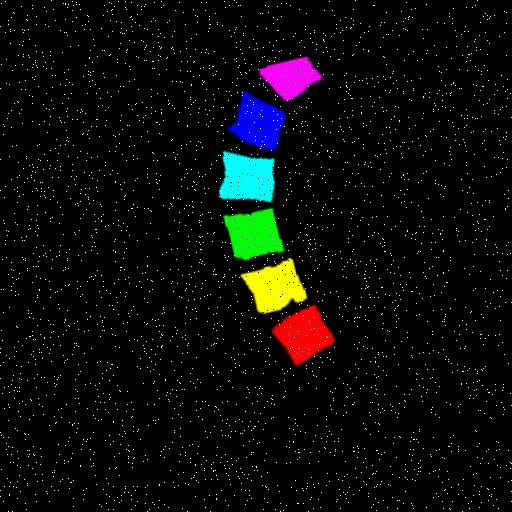L1: (266, 308, 328, 366)
L2: (236, 261, 301, 314)
L3: (219, 210, 278, 261)
L4: (215, 151, 271, 202)
L5: (224, 93, 282, 150)
S1: (257, 60, 318, 102)
